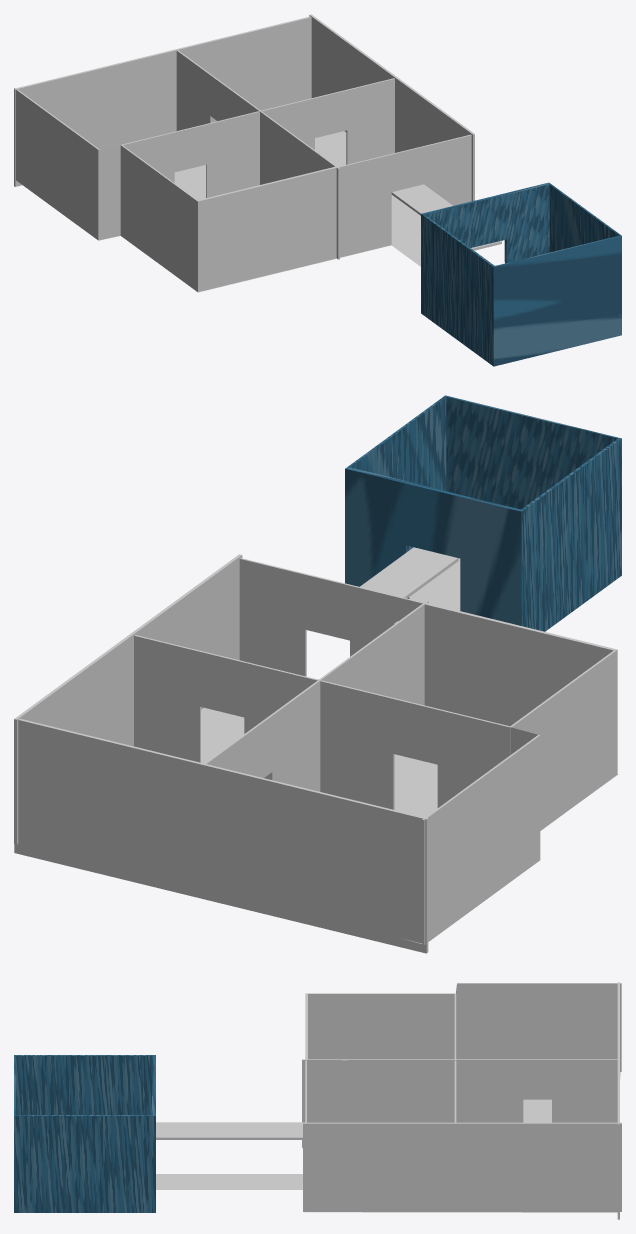
The model's file is paredes.fbx.
The picture shows the model from 3 angles, top to bottom: view 1: azimuth 30°, elevation 25°; view 2: azimuth 150°, elevation 25°; view 3: azimuth 270°, elevation 25°; orthographic projection. The views are drawn at different scales.
Parts seen in each view (by area): view 1: Cubo.039, Cubo.004, Cubo.002, Cubo, Cubo.145, Cubo.003, Cubo.001, Plano; view 2: Cubo.002, Cubo.004, Cubo.039, Cubo, Cubo.145, Cubo.003, Cubo.001, Plano, Plano.012; view 3: Cubo.003, Cubo.039, Cubo.004, Cubo.001, Cubo.145, Plano.001, Plano, Cubo.002, Cubo, viga.
Part boxes in pixels (x1,y1,x2,y2): Cubo.039: [14, 88, 336, 291]; Cubo.004: [421, 182, 621, 366]; Cubo.002: [14, 16, 311, 186]; Cubo: [121, 78, 394, 197]; Cubo.145: [338, 134, 501, 257]; Cubo.003: [309, 14, 474, 201]; Cubo.001: [176, 50, 339, 259]; Plano: [94, 131, 420, 292]; Cubo.002: [14, 718, 428, 953]; Cubo.004: [345, 395, 621, 631]; Cubo.039: [422, 603, 617, 944]; Cubo: [134, 635, 510, 809]; Cubo.145: [239, 547, 458, 676]; Cubo.003: [14, 554, 242, 844]; Cubo.001: [204, 601, 428, 791]; Plano: [201, 707, 618, 943]; Plano.012: [409, 558, 460, 610]; Cubo.003: [303, 1122, 621, 1211]; Cubo.039: [305, 983, 621, 1071]; Cubo.004: [14, 1055, 155, 1212]; Cubo.001: [302, 1059, 617, 1148]; Cubo.145: [156, 1060, 306, 1139]; Plano.001: [156, 1174, 302, 1189]; Plano: [305, 1072, 620, 1212]; Cubo.002: [617, 982, 619, 1219]; Cubo: [454, 994, 456, 1122]; viga: [342, 1060, 347, 1122].
Size of the model in its own units: 3894 by 1309 by 7024.
